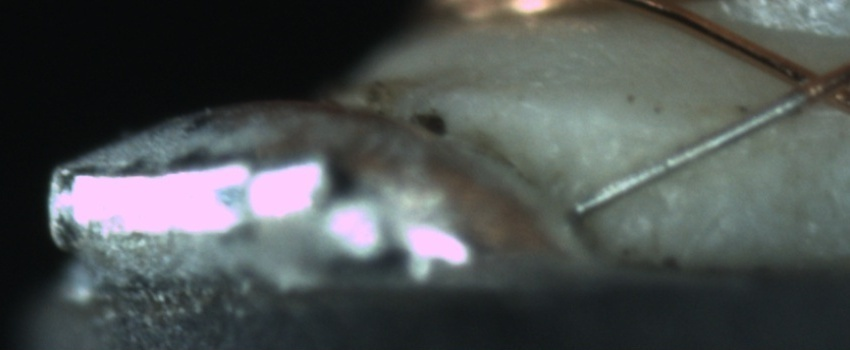CL: (765, 50, 847, 116)
TS: (570, 92, 817, 215)
